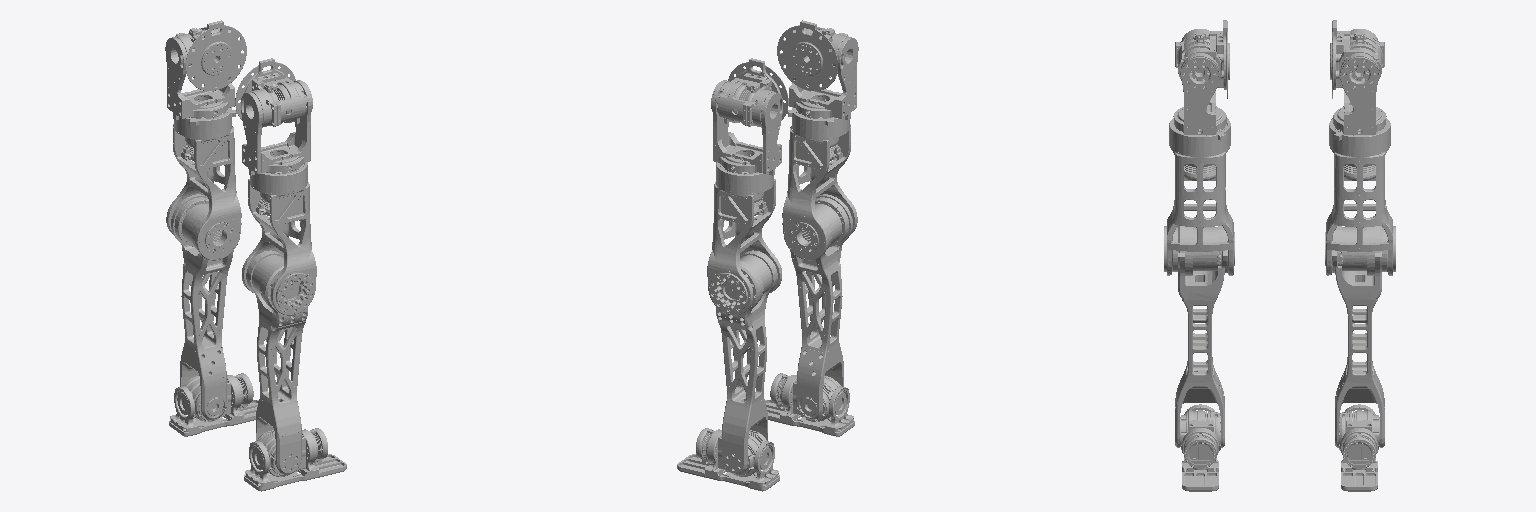
The robot description file, URDF, robot "CR01A":
<?xml version="1.0" encoding="utf-8"?>
<!-- CR01-A -->
<robot
  name="CR01A">
  <link
    name="torso_link">
    <inertial>
      <origin
        xyz="-0.00463189 0.00055919 0.22722638"
        rpy="0 0 0" />
      <mass
        value="23.88983598" />
      <inertia
        ixx="0.91123668"
        ixy="0.00052459"
        ixz="0.02944940"
        iyy="0.87143509"
        iyz="-0.00003506"
        izz="0.15347914" />
    </inertial>
    <visual>
      <origin
        xyz="0 0 0"
        rpy="0 0 0" />
      <geometry>
        <mesh
          filename="torso_link.STL" />
      </geometry>
      <material
        name="">
        <color
          rgba="0.752941176470588 0.752941176470588 0.752941176470588 1" />
      </material>
    </visual>
    <collision>
      <origin
        xyz="0 0 0.325"
        rpy="0 0 0" />
      <geometry>
        <box size="0.2 0.3 0.5"/>
      </geometry>
    </collision>
    <collision>
      <origin
        xyz="0 0 0"
        rpy="1.5707963 0 0" />
      <geometry>
       <cylinder length="0.2" radius="0.1"/>
      </geometry>
    </collision>
  </link>
  <link
    name="left_hip_pitch_link">
    <inertial>
      <origin
        xyz="-0.00068822 -0.01321955 0.00232550"
        rpy="0 0 0" />
      <mass
        value="1.72337393" />
      <inertia
        ixx="0.00296475"
        ixy="-0.00000086"
        ixz="0.00005005"
        iyy="0.00256948"
        iyz="-0.00000015"
        izz="0.00284444" />
    </inertial>
    <visual>
      <origin
        xyz="0 0 0"
        rpy="0 0 0" />
      <geometry>
        <mesh
          filename="Lleg_Link1.STL" />
      </geometry>
      <material
        name="">
        <color
          rgba="0.752941176470588 0.752941176470588 0.752941176470588 1" />
      </material>
    </visual>
    <!-- <collision>
      <origin
        xyz="0 0 0"
        rpy="0 0 0" />
      <geometry>
        <mesh
          filename="Lleg_Link1.STL" />
      </geometry>
    </collision> -->
  </link>
  <joint
    name="left_hip_pitch_joint"
    type="revolute">
    <origin
      xyz="0 0.161900000000006 0"
      rpy="0 0 0" />
    <parent
      link="torso_link" />
    <child
      link="left_hip_pitch_link" />
    <axis
      xyz="0 1 0" />
    <limit
      lower="-1.57"
      upper="1.57"
      effort="400"
      velocity="18" />
  </joint>
  <link
    name="left_hip_roll_link">
    <inertial>
      <origin
        xyz="-0.00433376 0.00060748 -0.08888687"
        rpy="0 0 0" />
      <mass
        value="1.64860403" />
      <inertia
        ixx="0.00703990"
        ixy="0.00001496"
        ixz="-0.00001140"
        iyy="0.00960471"
        iyz="-0.00005992"
        izz="0.00426494" />
    </inertial>
    <visual>
      <origin
        xyz="0 0 0"
        rpy="0 0 0" />
      <geometry>
        <mesh
          filename="Lleg_Link2.STL" />
      </geometry>
      <material
        name="">
        <color
          rgba="0.752941176470588 0.752941176470588 0.752941176470588 1" />
      </material>
    </visual>
    <collision>
      <origin
        xyz="0 0 0"
        rpy="0 1.5707963 0" />
      <geometry>
       <cylinder length="0.1" radius="0.05"/>
      </geometry>
    </collision>
  </link>
  <joint
    name="left_hip_roll_joint"
    type="revolute">
    <origin
      xyz="0 0 0"
      rpy="0 0 0" />
    <parent
      link="left_hip_pitch_link" />
    <child
      link="left_hip_roll_link" />
    <axis
      xyz="1 0 0" />
    <limit
      lower="-0.436"
      upper="1.658"
      effort="120"
      velocity="20" />
  </joint>
  <link
    name="left_hip_yaw_link">
    <inertial>
      <origin
        xyz="0.00644811 -0.00079249 -0.27118133"
        rpy="0 0 0" />
      <mass
        value="3.11929934" />
      <inertia
        ixx="0.03242128"
        ixy="-0.00001626"
        ixz="0.00089937"
        iyy="0.03024359"
        iyz="-0.00023744"
        izz="0.00892014" />
    </inertial>
    <visual>
      <origin
        xyz="0 0 0"
        rpy="0 0 0" />
      <geometry>
        <mesh
          filename="Lleg_Link3.STL" />
      </geometry>
      <material
        name="">
        <color
          rgba="0.752941176470588 0.752941176470588 0.752941176470588 1" />
      </material>
    </visual>
    <collision>
      <origin
        xyz="0 0 -0.25"
        rpy="0 0 0" />
      <geometry>
       <cylinder length="0.25" radius="0.065"/>
      </geometry>
    </collision>
  </link>
  <joint
    name="left_hip_yaw_joint"
    type="revolute">
    <origin
      xyz="0 0 0"
      rpy="0 0 0" />
    <parent
      link="left_hip_roll_link" />
    <child
      link="left_hip_yaw_link" />
    <axis
      xyz="0 0 1" />
    <limit
      lower="-0.5235"
      upper="3.665"
      effort="120"
      velocity="20" />
  </joint>
  <link
    name="left_knee_link">
    <inertial>
      <origin
        xyz="0.00126510 0.00073522 -0.09991480"
        rpy="0 0 0" />
      <mass
        value="4.99656573" />
      <inertia
        ixx="0.09906308"
        ixy="0.00000407"
        ixz="-0.00084851"
        iyy="0.09801545"
        iyz="0.00169818"
        izz="0.00715783" />
    </inertial>
    <visual>
      <origin
        xyz="0 0 0"
        rpy="0 0 0" />
      <geometry>
        <mesh
          filename="Lleg_Link4.STL" />
      </geometry>
      <material
        name="">
        <color
          rgba="0.752941176470588 0.752941176470588 0.752941176470588 1" />
      </material>
    </visual>
    <collision>
      <origin
        xyz="0 0 -0.2"
        rpy="0 0 0" />
      <geometry>
       <cylinder length="0.25" radius="0.05"/>
      </geometry>
    </collision>
  </link>
  <joint
    name="left_knee_joint"
    type="revolute">
    <origin
      xyz="0 0 -0.419999999999908"
      rpy="0 0 0" />
    <parent
      link="left_hip_yaw_link" />
    <child
      link="left_knee_link" />
    <axis
      xyz="0 1 0" />
    <limit
      lower="-0.1745"
      upper="2.53"
      effort="400"
      velocity="18" />
  </joint>
  <link
    name="left_ankle_pitch_link">
    <inertial>
      <origin
        xyz="0.00363026 -0.01158670 -0.00018411"
        rpy="0 0 0" />
      <mass
        value="1.05924824" />
      <inertia
        ixx="0.00118976"
        ixy="-0.00004562"
        ixz="-0.00000064"
        iyy="0.00144357"
        iyz="-0.00001020"
        izz="0.00147956" />
    </inertial>
    <visual>
      <origin
        xyz="0 0 0"
        rpy="0 0 0" />
      <geometry>
        <mesh
          filename="Lleg_Link5.STL" />
      </geometry>
      <material
        name="">
        <color
          rgba="0.752941176470588 0.752941176470588 0.752941176470588 1" />
      </material>
    </visual>
    <collision>
      <origin
        xyz="0 0 0"
        rpy="1.5707963 0 0" />
      <geometry>
       <cylinder length="0.1" radius="0.03"/>
      </geometry>
    </collision>
  </link>
  <joint
    name="left_ankle_pitch_joint"
    type="revolute">
    <origin
      xyz="0 -0.00100000000000014 -0.41"
      rpy="0 0 0" />
    <parent
      link="left_knee_link" />
    <child
      link="left_ankle_pitch_link" />
    <axis
      xyz="0 1 0" />
    <limit
      lower="-0.7853"
      upper="1.04719"
      effort="120"
      velocity="20" />
  </joint>
  <link
    name="left_ankle_roll_link">
    <inertial>
      <origin
        xyz="0.04330595 0.00002184 -0.03185137"
        rpy="0 0 0" />
      <mass
        value="0.86708588" />
      <inertia
        ixx="0.00117069"
        ixy="-0.00000074"
        ixz="-0.00016389"
        iyy="0.00354934"
        iyz="0.00000014"
        izz="0.00320819" />
    </inertial>
    <visual>
      <origin
        xyz="0 0 0"
        rpy="0 0 0" />
      <geometry>
        <mesh
          filename="Lleg_Link6.STL" />
      </geometry>
      <material
        name="">
        <color
          rgba="0.752941176470588 0.752941176470588 0.752941176470588 1" />
      </material>
    </visual>
    <collision>
      <origin
        xyz="0.042 0 -0.057"
        rpy="0 0 0" />
      <geometry>
        <box size="0.22 0.075 0.01"/>
      </geometry>
    </collision>
  </link>
  <joint
    name="left_ankle_roll_joint"
    type="revolute">
    <origin
      xyz="0 0 0"
      rpy="0 0 0" />
    <parent
      link="left_ankle_pitch_link" />
    <child
      link="left_ankle_roll_link" />
    <axis
      xyz="1 0 0" />
    <limit
      lower="-0.6108"
      upper="0.6108"
      effort="40"
      velocity="20" />
  </joint>
  <link
    name="right_hip_pitch_link">
    <inertial>
      <origin
        xyz="-0.00068815 0.01331460 0.00232740"
        rpy="0 0 0" />
      <mass
        value="1.72339862" />
      <inertia
        ixx="0.00296040"
        ixy="0.00000446"
        ixz="0.00005012"
        iyy="0.00256959"
        iyz="-0.00000249"
        izz="0.00283998" />
    </inertial>
    <visual>
      <origin
        xyz="0 0 0"
        rpy="0 0 0" />
      <geometry>
        <mesh
          filename="Rleg_Link1.STL" />
      </geometry>
      <material
        name="">
        <color
          rgba="0.752941176470588 0.752941176470588 0.752941176470588 1" />
      </material>
    </visual>
  </link>
  <joint
    name="right_hip_pitch_joint"
    type="revolute">
    <origin
      xyz="0 -0.1619 0"
      rpy="0 0 0" />
    <parent
      link="torso_link" />
    <child
      link="right_hip_pitch_link" />
    <axis
      xyz="0 1 0" />
    <limit
      lower="-1.57"
      upper="1.57"
      effort="400"
      velocity="18" />
  </joint>
  <link
    name="right_hip_roll_link">
    <inertial>
      <origin
        xyz="-0.00433462 -0.00060732 -0.08888652"
        rpy="0 0 0" />
      <mass
        value="1.64853369" />
      <inertia
        ixx="0.00703961"
        ixy="-0.00001496"
        ixz="-0.00001132"
        iyy="0.00960439"
        iyz="0.00005984"
        izz="0.00426484" />
    </inertial>
    <visual>
      <origin
        xyz="0 0 0"
        rpy="0 0 0" />
      <geometry>
        <mesh
          filename="Rleg_Link2.STL" />
      </geometry>
      <material
        name="">
        <color
          rgba="0.752941176470588 0.752941176470588 0.752941176470588 1" />
      </material>
    </visual>
    <collision>
      <origin
        xyz="0 0 0"
        rpy="0 1.5707963 0" />
      <geometry>
       <cylinder length="0.1" radius="0.05"/>
      </geometry>
    </collision>
  </link>
  <joint
    name="right_hip_roll_joint"
    type="revolute">
    <origin
      xyz="0 0 0"
      rpy="0 0 0" />
    <parent
      link="right_hip_pitch_link" />
    <child
      link="right_hip_roll_link" />
    <axis
      xyz="1 0 0" />
    <limit
      lower="-1.658"
      upper="0.436"
      effort="120"
      velocity="20" />
  </joint>
  <link
    name="right_hip_yaw_link">
    <inertial>
      <origin
        xyz="0.00644366 0.00080209 -0.27118070"
        rpy="0 0 0" />
      <mass
        value="3.11932600" />
      <inertia
        ixx="0.03240209"
        ixy="0.00002500"
        ixz="0.00090034"
        iyy="0.03018969"
        iyz="0.00023741"
        izz="0.00887576" />
    </inertial>
    <visual>
      <origin
        xyz="0 0 0"
        rpy="0 0 0" />
      <geometry>
        <mesh
          filename="Rleg_Link3.STL" />
      </geometry>
      <material
        name="">
        <color
          rgba="0.752941176470588 0.752941176470588 0.752941176470588 1" />
      </material>
    </visual>
    <collision>
      <origin
        xyz="0 0 -0.25"
        rpy="0 0 0" />
      <geometry>
       <cylinder length="0.25" radius="0.065"/>
      </geometry>
    </collision>
  </link>
  <joint
    name="right_hip_yaw_joint"
    type="revolute">
    <origin
      xyz="0 0 0"
      rpy="0 0 0" />
    <parent
      link="right_hip_roll_link" />
    <child
      link="right_hip_yaw_link" />
    <axis
      xyz="0 0 1" />
    <limit
      lower="-3.665"
      upper="0.5235"
      effort="120"
      velocity="20" />
  </joint>
  <link
    name="right_knee_link">
    <inertial>
      <origin
        xyz="0.00126680 -0.00073524 -0.09991347"
        rpy="0 0 0" />
      <mass
        value="4.99663245" />
      <inertia
        ixx="0.09906585"
        ixy="-0.00000443"
        ixz="-0.00085082"
        iyy="0.09801827"
        iyz="-0.00169862"
        izz="0.00715794" />
    </inertial>
    <visual>
      <origin
        xyz="0 0 0"
        rpy="0 0 0" />
      <geometry>
        <mesh
          filename="Rleg_Link4.STL" />
      </geometry>
      <material
        name="">
        <color
          rgba="0.752941176470588 0.752941176470588 0.752941176470588 1" />
      </material>
    </visual>
    <collision>
      <origin
        xyz="0 0 -0.2"
        rpy="0 0 0" />
      <geometry>
       <cylinder length="0.25" radius="0.05"/>
      </geometry>
    </collision>
  </link>
  <joint
    name="right_knee_joint"
    type="revolute">
    <origin
      xyz="0 0 -0.419999999999999"
      rpy="0 0 0" />
    <parent
      link="right_hip_yaw_link" />
    <child
      link="right_knee_link" />
    <axis
      xyz="0 1 0" />
    <limit
      lower="-0.1745"
      upper="2.53"
      effort="400"
      velocity="18" />
  </joint>
  <link
    name="right_ankle_pitch_link">
    <inertial>
      <origin
        xyz="0.00363025 0.01158667 -0.00018429"
        rpy="0 0 0" />
      <mass
        value="1.05924824" />
      <inertia
        ixx="0.00118976"
        ixy="0.00004562"
        ixz="-0.00000065"
        iyy="0.00144357"
        iyz="0.00001020"
        izz="0.00147956" />
    </inertial>
    <visual>
      <origin
        xyz="0 0 0"
        rpy="0 0 0" />
      <geometry>
        <mesh
          filename="Rleg_Link5.STL" />
      </geometry>
      <material
        name="">
        <color
          rgba="0.752941176470588 0.752941176470588 0.752941176470588 1" />
      </material>
    </visual>
    <collision>
      <origin
        xyz="0 0 0"
        rpy="1.5707963 0 0" />
      <geometry>
       <cylinder length="0.1" radius="0.03"/>
      </geometry>
    </collision>
  </link>
  <joint
    name="right_ankle_pitch_joint"
    type="revolute">
    <origin
      xyz="0 0.000999999999999113 -0.41"
      rpy="0 0 0" />
    <parent
      link="right_knee_link" />
    <child
      link="right_ankle_pitch_link" />
    <axis
      xyz="0 1 0" />
    <limit
      lower="-0.7853"
      upper="1.04719"
      effort="120"
      velocity="20" />
  </joint>
  <link
    name="right_ankle_roll_link">
    <inertial>
      <origin
        xyz="0.04330593 -0.00002188 -0.03185141"
        rpy="0 0 0" />
      <mass
        value="0.86708586" />
      <inertia
        ixx="0.00117068"
        ixy="0.00000075"
        ixz="-0.00016389"
        iyy="0.00354933"
        iyz="-0.00000014"
        izz="0.00320819" />
    </inertial>
    <visual>
      <origin
        xyz="0 0 0"
        rpy="0 0 0" />
      <geometry>
        <mesh
          filename="Rleg_Link6.STL" />
      </geometry>
      <material
        name="">
        <color
          rgba="0.752941176470588 0.752941176470588 0.752941176470588 1" />
      </material>
    </visual>
    <collision>
      <origin
        xyz="0.042 0 -0.057"
        rpy="0 0 0" />
      <geometry>
        <box size="0.22 0.075 0.01"/>
      </geometry>
    </collision>
  </link>
  <joint
    name="right_ankle_roll_joint"
    type="revolute">
    <origin
      xyz="0 0 0"
      rpy="0 0 0" />
    <parent
      link="right_ankle_pitch_link" />
    <child
      link="right_ankle_roll_link" />
    <axis
      xyz="1 0 0" />
    <limit
      lower="-0.6108"
      upper="0.6108"
      effort="40"
      velocity="20" />
  </joint>
</robot>

--- Render facts (derived) ---
Views: 3 orthographic renders of the robot side by side, from view 1: azimuth 30°, elevation 25°; view 2: azimuth 150°, elevation 25°; view 3: azimuth 270°, elevation 25°.
Model CR01A with 13 links and 12 joints (12 revolute), rooted at torso_link, posed all joints at 0.
Visible links, largest first — view 1: right_knee_link, left_knee_link, left_hip_yaw_link, right_hip_yaw_link, right_hip_roll_link, left_hip_pitch_link, right_hip_pitch_link, left_hip_roll_link, right_ankle_roll_link, left_ankle_roll_link, left_ankle_pitch_link, right_ankle_pitch_link; view 2: left_knee_link, right_knee_link, right_hip_yaw_link, left_hip_yaw_link, left_hip_roll_link, right_hip_pitch_link, left_hip_pitch_link, right_hip_roll_link, left_ankle_roll_link, right_ankle_roll_link, right_ankle_pitch_link, left_ankle_pitch_link; view 3: left_knee_link, right_knee_link, right_hip_yaw_link, left_hip_yaw_link, left_hip_roll_link, right_hip_roll_link, left_ankle_roll_link, right_ankle_roll_link, left_hip_pitch_link, right_hip_pitch_link, left_ankle_pitch_link, right_ankle_pitch_link.
Boxes of the visible links, x1=… form: right_knee_link: x1=246, y1=250, x2=307, y2=474; left_knee_link: x1=171, y1=194, x2=241, y2=419; left_hip_yaw_link: x1=166, y1=107, x2=241, y2=260; right_hip_yaw_link: x1=242, y1=162, x2=316, y2=315; right_hip_roll_link: x1=241, y1=80, x2=312, y2=175; left_hip_pitch_link: x1=175, y1=20, x2=246, y2=90; right_hip_pitch_link: x1=235, y1=58, x2=308, y2=127; left_hip_roll_link: x1=165, y1=25, x2=234, y2=119; right_ankle_roll_link: x1=244, y1=428, x2=346, y2=491; left_ankle_roll_link: x1=169, y1=373, x2=258, y2=436; left_ankle_pitch_link: x1=177, y1=376, x2=230, y2=421; right_ankle_pitch_link: x1=252, y1=430, x2=305, y2=476; left_knee_link: x1=716, y1=250, x2=777, y2=474; right_knee_link: x1=782, y1=194, x2=852, y2=419; right_hip_yaw_link: x1=782, y1=107, x2=857, y2=260; left_hip_yaw_link: x1=707, y1=162, x2=781, y2=315; left_hip_roll_link: x1=711, y1=80, x2=782, y2=175; right_hip_pitch_link: x1=777, y1=20, x2=848, y2=90; left_hip_pitch_link: x1=715, y1=58, x2=788, y2=127; right_hip_roll_link: x1=789, y1=25, x2=858, y2=119; left_ankle_roll_link: x1=677, y1=428, x2=779, y2=491; right_ankle_roll_link: x1=765, y1=373, x2=854, y2=436; right_ankle_pitch_link: x1=793, y1=376, x2=846, y2=421; left_ankle_pitch_link: x1=718, y1=430, x2=771, y2=476; left_knee_link: x1=1332, y1=226, x2=1387, y2=447; right_knee_link: x1=1172, y1=226, x2=1227, y2=447; right_hip_yaw_link: x1=1164, y1=118, x2=1234, y2=275; left_hip_yaw_link: x1=1325, y1=118, x2=1395, y2=275; left_hip_roll_link: x1=1333, y1=29, x2=1386, y2=135; right_hip_roll_link: x1=1173, y1=29, x2=1226, y2=135; left_ankle_roll_link: x1=1341, y1=404, x2=1377, y2=491; right_ankle_roll_link: x1=1182, y1=404, x2=1218, y2=491; left_hip_pitch_link: x1=1330, y1=20, x2=1384, y2=98; right_hip_pitch_link: x1=1175, y1=20, x2=1229, y2=98; left_ankle_pitch_link: x1=1339, y1=410, x2=1378, y2=450; right_ankle_pitch_link: x1=1181, y1=410, x2=1220, y2=450.
Bounding box of the posed robot: 0.23 × 0.4698 × 0.975 m (x, y, z).
Meshes: 13 distinct files referenced, 12 mesh visuals loaded (12 binary STL); not drawn: 1 (reference not matched to a file when rendering).
